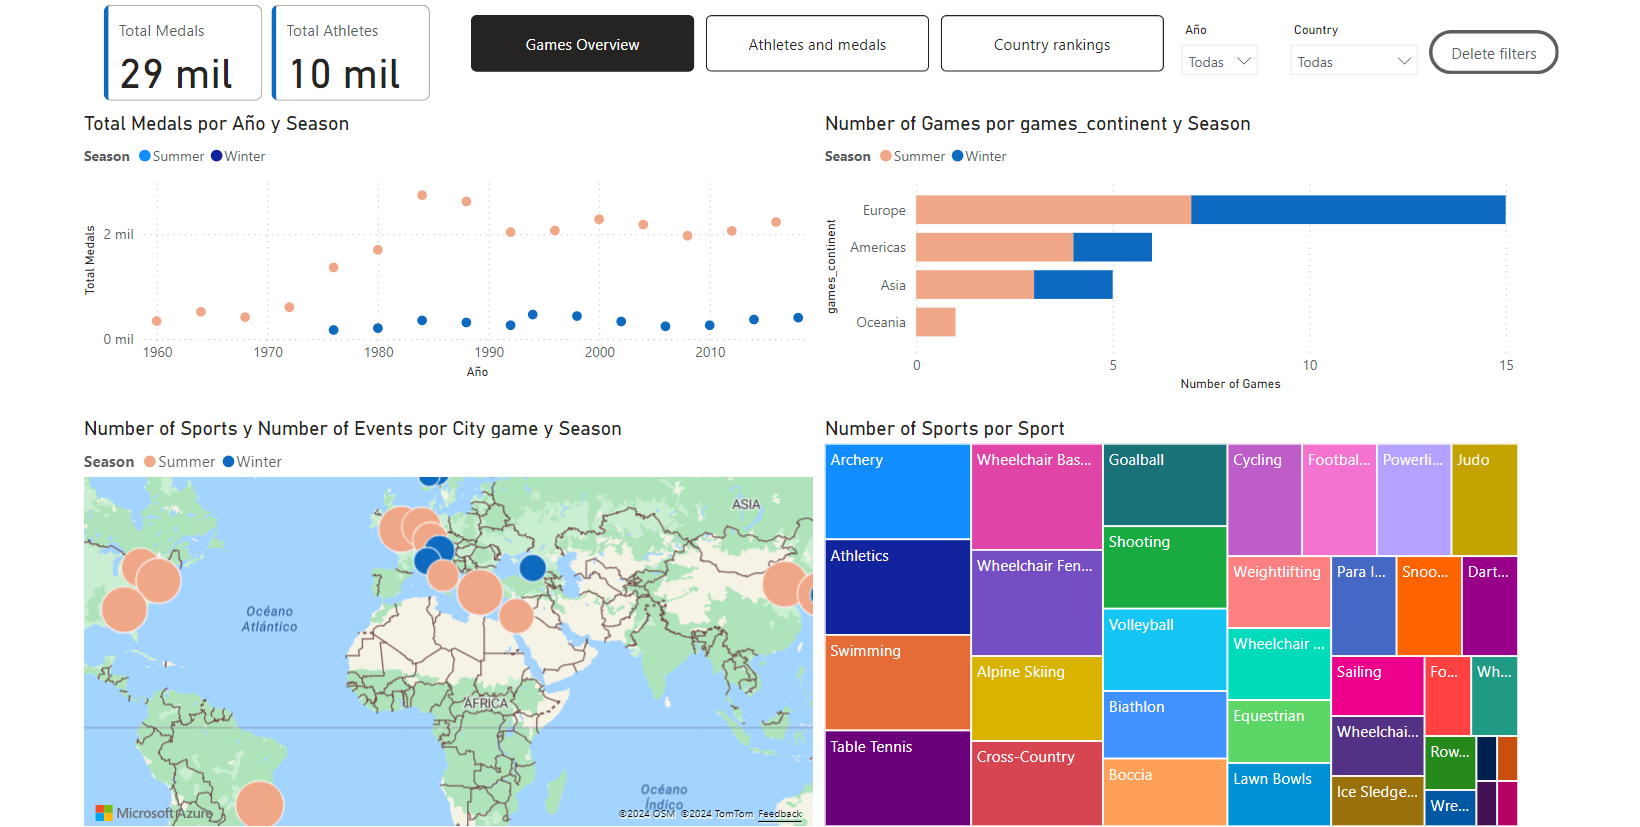

This screenshot's page, from the dashboard's own definition file:
{"tool":"powerbi","page":{"name":"Games Overview","canvas":[1280,720],"ordinal":0},"visuals":[{"type":"pageNavigator","box":[339.8,13.7,600.3,49.9],"z":0},{"type":"lineChart","fields":{"Category":["Games.games_start_date.Variación.Jerarquía de fechas.Año","Games.games_start_date.Variación.Jerarquía de fechas.Mes","Games.games_start_date.Variación.Jerarquía de fechas.Día"],"Y":["Metrics medals.Total Medals"],"Series":["Games.games_season"]},"box":[0,97,640.5,236],"z":1000},{"type":"cardVisual","fields":{"Data":["Metrics medals.Total Medals","Metrics games.Total Athletes"]},"box":[17.6,0,293.8,93],"z":2000},{"type":"treemap","fields":{"Group":["Sports.sport"],"Values":["CountNonNull(Sports.games_sports_code)"]},"box":[640.5,360.4,609.2,359.4],"z":3000},{"type":"slicer","fields":{"Values":["Games.games_start_date.Variación.Jerarquía de fechas.Año"]},"box":[943.7,15.3,86,57],"z":4000},{"type":"azureMap","fields":{"Category":["Games.games_city"],"Series":["Games.games_season"],"Size":["CountNonNull(Sports.sport_code)"]},"box":[0,360.4,640.5,359.4],"z":5000},{"type":"slicer","fields":{"Values":["Games.games_country"]},"box":[1037.8,15.3,130.4,57],"z":6000},{"type":"barChart","fields":{"Y":["CountNonNull(Games.games_code)"],"Category":["Games.games_continent Jerarquía.games_continent","Games.games_continent Jerarquía.games_country","Games.games_continent Jerarquía.games_city"],"Series":["Games.games_season"]},"box":[640.5,97,639.5,246.8],"z":7000},{"type":"actionButton","box":[1167.6,27,112.4,38.2],"z":8000}]}

Visuals, with their boxes on the page's 1280x720 design canvas (x1, y1, x2, y2). These are canvas units, not pixel positions in the 1640x827 screenshot, which may show the page scaled, cropped or inside an application window:
pageNavigator: bbox=(340, 14, 940, 64)
lineChart - Games.games_start_date.Variación.Jerarquía de fechas.Año x Games.games_start_date.Variación.Jerarquía de fechas.Mes: bbox=(0, 97, 640, 333)
cardVisual - Metrics medals.Total Medals x Metrics games.Total Athletes: bbox=(18, 0, 311, 93)
treemap - Sports.sport x CountNonNull(Sports.games_sports_code): bbox=(640, 360, 1250, 720)
slicer - Games.games_start_date.Variación.Jerarquía de fechas.Año: bbox=(944, 15, 1030, 72)
azureMap - Games.games_city x Games.games_season: bbox=(0, 360, 640, 720)
slicer - Games.games_country: bbox=(1038, 15, 1168, 72)
barChart - CountNonNull(Games.games_code) x Games.games_continent Jerarquía.games_continent: bbox=(640, 97, 1280, 344)
actionButton: bbox=(1168, 27, 1280, 65)
